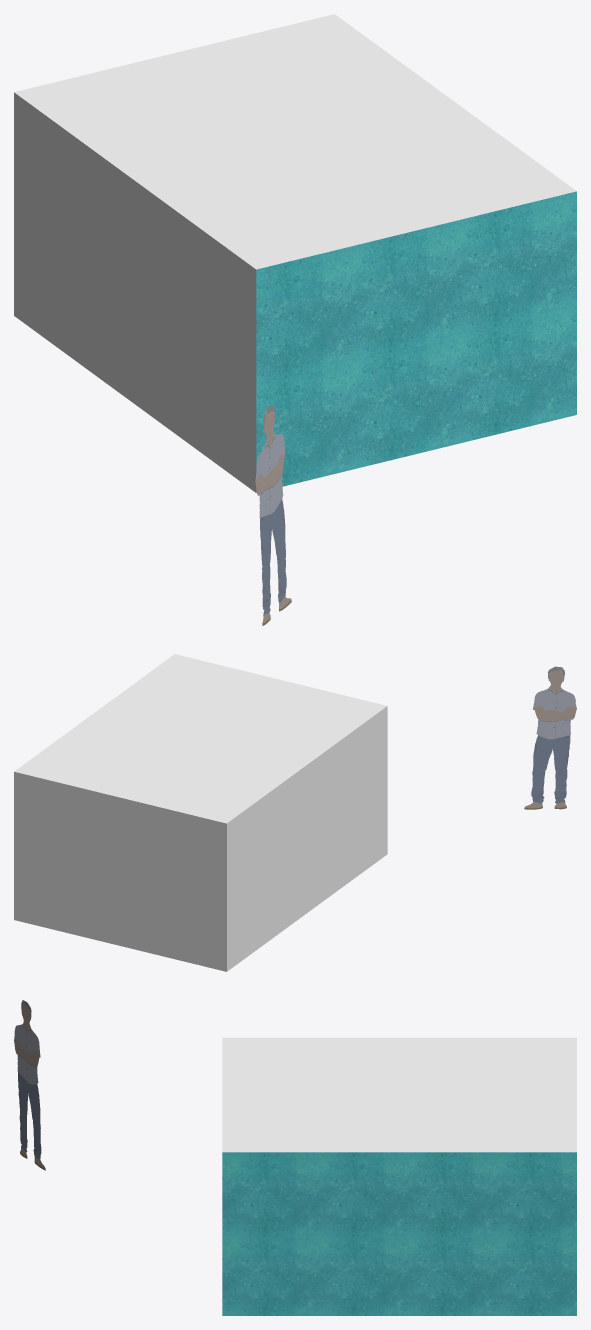
The model's file is project.glb.
3 views of the same model, one above another, from view 1: azimuth 30°, elevation 25°; view 2: azimuth 150°, elevation 25°; view 3: azimuth 270°, elevation 25° (orthographic). The views are drawn at different scales.
Parts seen in each view (by area): view 1: Root Node, Niraj; view 2: Root Node, Niraj; view 3: Root Node, Niraj.
Boxes of the visible parts, box(x1,y1,x2,y2) form: Root Node: box(14, 14, 576, 492); Niraj: box(255, 405, 291, 625); Root Node: box(14, 654, 387, 971); Niraj: box(524, 666, 576, 809); Root Node: box(222, 1037, 576, 1315); Niraj: box(14, 1000, 45, 1170).
Bounding box in the file's own units: 4.04 × 1.87 × 5.81.
85 materials, 2 textured.
